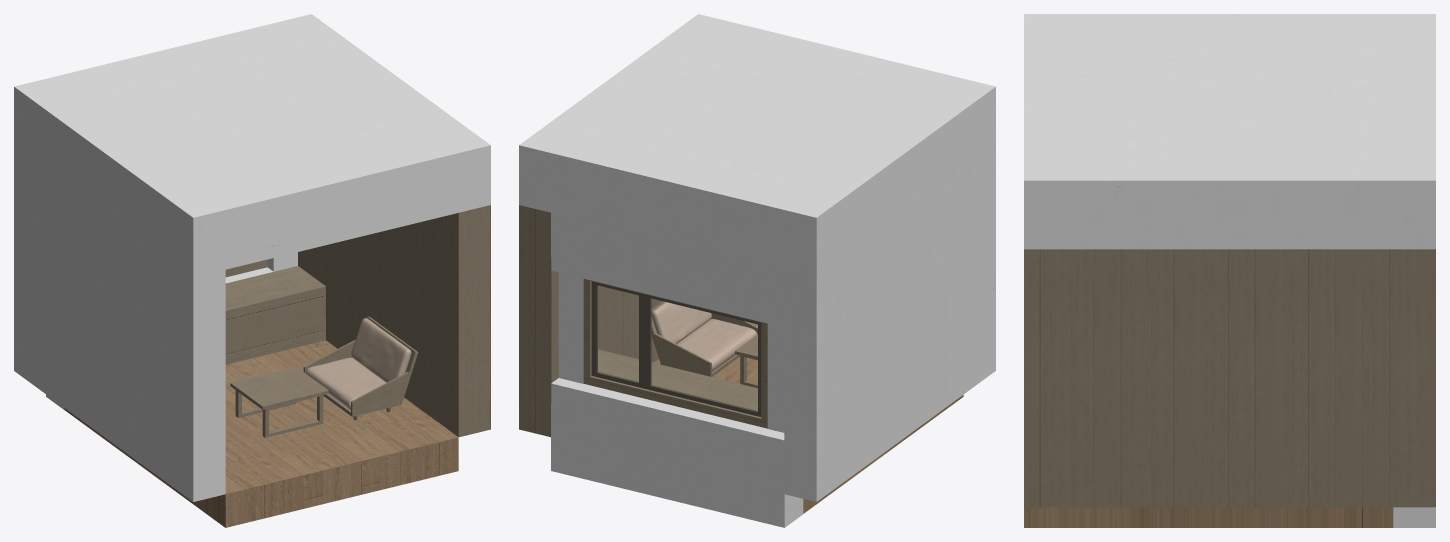
The model's file is room-transformed.glb.
3 views of the same model, side by side, from view 1: azimuth 30°, elevation 25°; view 2: azimuth 150°, elevation 25°; view 3: azimuth 270°, elevation 25° (orthographic). The views are drawn at different scales.
Parts seen in each view (by area): view 1: wall left, wall right, flloor, cabnet window, Sofa Top; view 2: wall left, wall right, cabnet window, Sofa Top, window frame small, flloor; view 3: wall right, wall left, flloor.
Boxes of the visible parts, x1,y1,x2,y2 form: wall left: [14, 14, 490, 501]; wall right: [225, 205, 490, 437]; flloor: [64, 340, 458, 527]; cabnet window: [225, 266, 418, 437]; Sofa Top: [305, 318, 411, 410]; wall left: [519, 14, 995, 527]; wall right: [519, 205, 767, 437]; cabnet window: [598, 301, 757, 410]; Sofa Top: [651, 302, 757, 371]; window frame small: [591, 281, 761, 416]; flloor: [653, 322, 963, 513]; wall right: [1024, 249, 1435, 507]; wall left: [1024, 14, 1435, 527]; flloor: [1024, 507, 1393, 527].
Bounding box in the file's own units: 2.55 × 2.6 × 2.66.
Materials: 6 (6 with a texture image).
